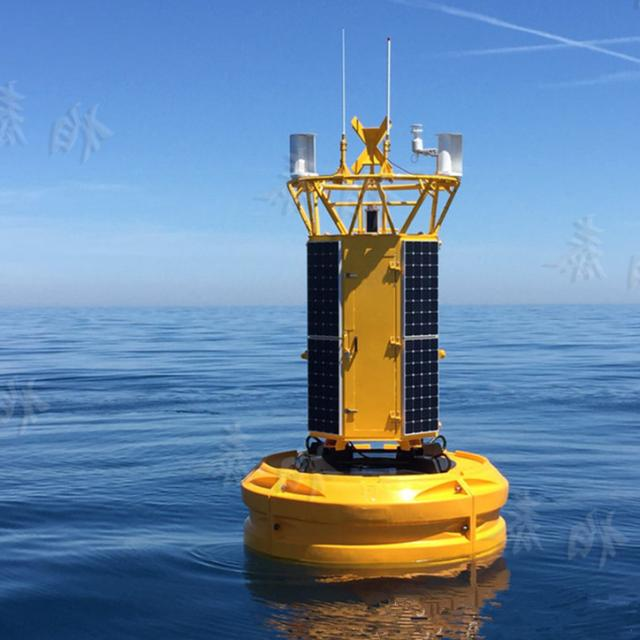buoy: (241, 51, 517, 575)
